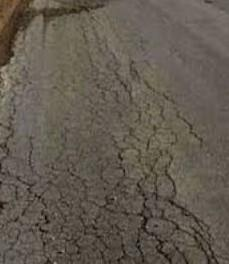alligator-crack: (2, 4, 192, 264)
